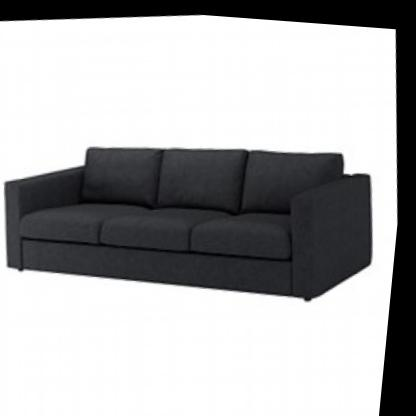Sofa: (0, 57, 397, 352)
